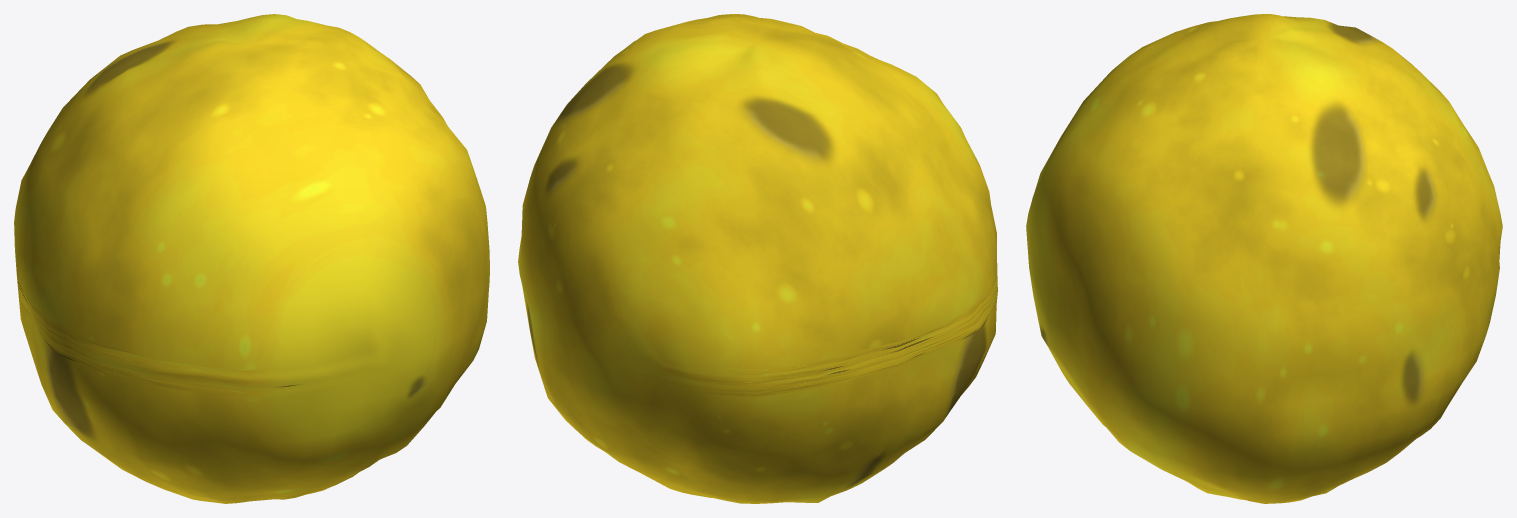
Rendered from planet_03_b.glb.
3 renders of one model, left to right at view 1: azimuth 30°, elevation 25°; view 2: azimuth 150°, elevation 25°; view 3: azimuth 270°, elevation 25°, orthographic.
Visible parts, largest first — view 1: Body; view 2: Body; view 3: Body.
Part boxes in pixels (left/top/right/bottom): Body: left=14, top=14, right=489, bottom=503; Body: left=518, top=14, right=997, bottom=503; Body: left=1026, top=14, right=1502, bottom=503.
Size of the model in its own units: 1.88 by 1.93 by 1.89.
Materials: 1 (1 with a texture image).
